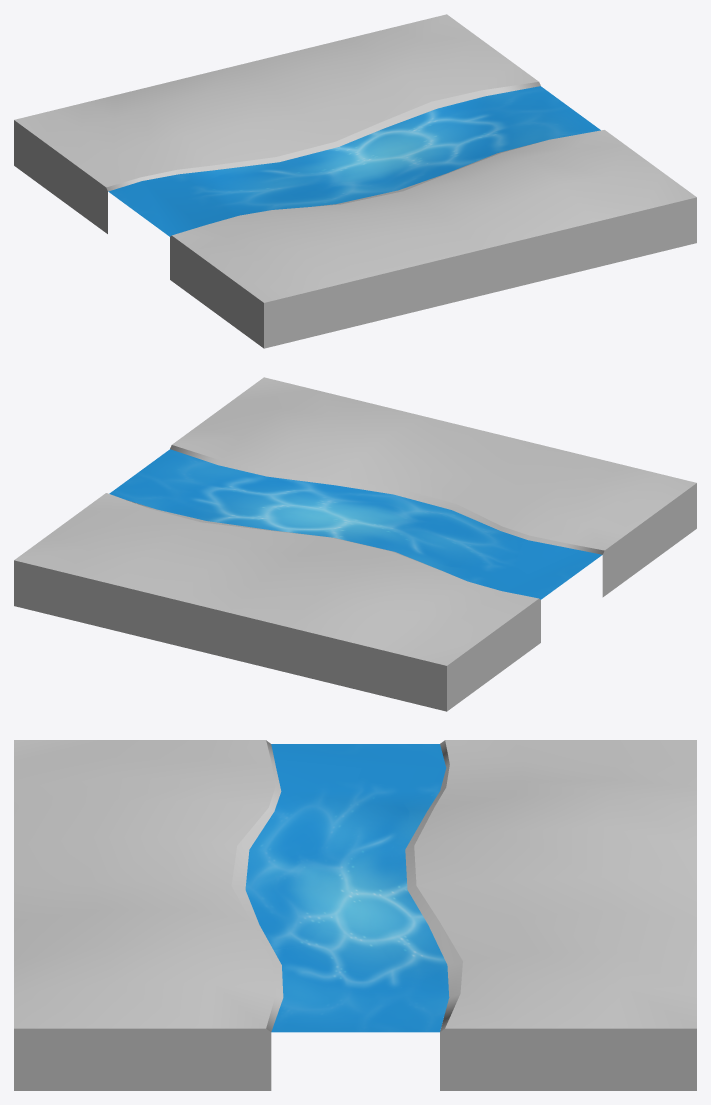
Rendered from river_straight_tile.fbx.
The picture shows the model from 3 angles, top to bottom: view 1: azimuth 30°, elevation 25°; view 2: azimuth 150°, elevation 25°; view 3: azimuth 270°, elevation 25°; orthographic projection. The views are drawn at different scales.
Parts seen in each view (by area): view 1: river_straight_tile, river_straight; view 2: river_straight_tile, river_straight; view 3: river_straight_tile, river_straight.
Boxes of the visible parts, box(x1,y1,x2,y2) form: river_straight_tile: box(14, 14, 696, 348); river_straight: box(108, 86, 600, 236); river_straight_tile: box(14, 377, 696, 711); river_straight: box(109, 449, 602, 599); river_straight_tile: box(14, 740, 696, 1090); river_straight: box(245, 744, 449, 1032).
Size of the model in its own units: 1248 by 164 by 1249.
